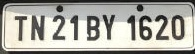character: (154, 14, 170, 40), (85, 14, 100, 40), (13, 14, 27, 41), (101, 13, 115, 40), (52, 14, 66, 40), (138, 14, 152, 40), (30, 15, 44, 40), (171, 14, 184, 40), (69, 14, 79, 41), (126, 14, 136, 41)
